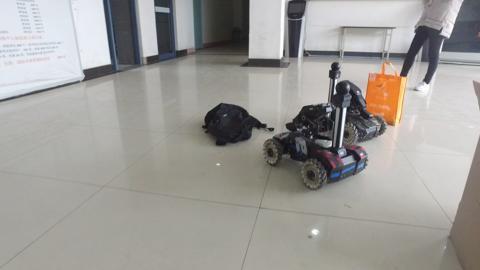bag: (367, 61, 404, 123)
chariot: (268, 85, 366, 184), (315, 63, 384, 139)
